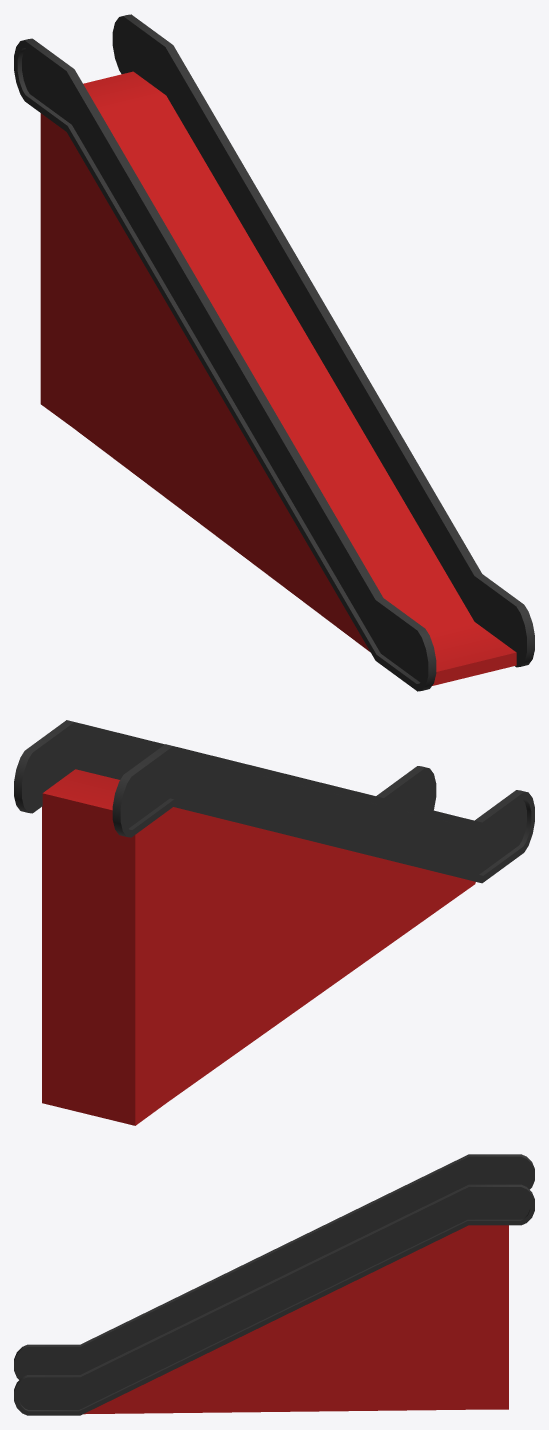
File: Rolltreppe.fbx
3 views of the same model, one above another, from view 1: azimuth 30°, elevation 25°; view 2: azimuth 150°, elevation 25°; view 3: azimuth 270°, elevation 25° (orthographic). The views are drawn at different scales.
Visible parts, largest first — view 1: Boden, Gelaender; view 2: Boden, Gelaender; view 3: Boden, Gelaender.
Part boxes in pixels (x1,y1,x2,y2): Boden: (40,71,516,685); Gelaender: (14,14,534,691); Boden: (42,769,475,1125); Gelaender: (14,720,534,883); Boden: (83,1225,508,1414); Gelaender: (14,1154,534,1415).
Size of the model in its own units: 147 by 480 by 987.
